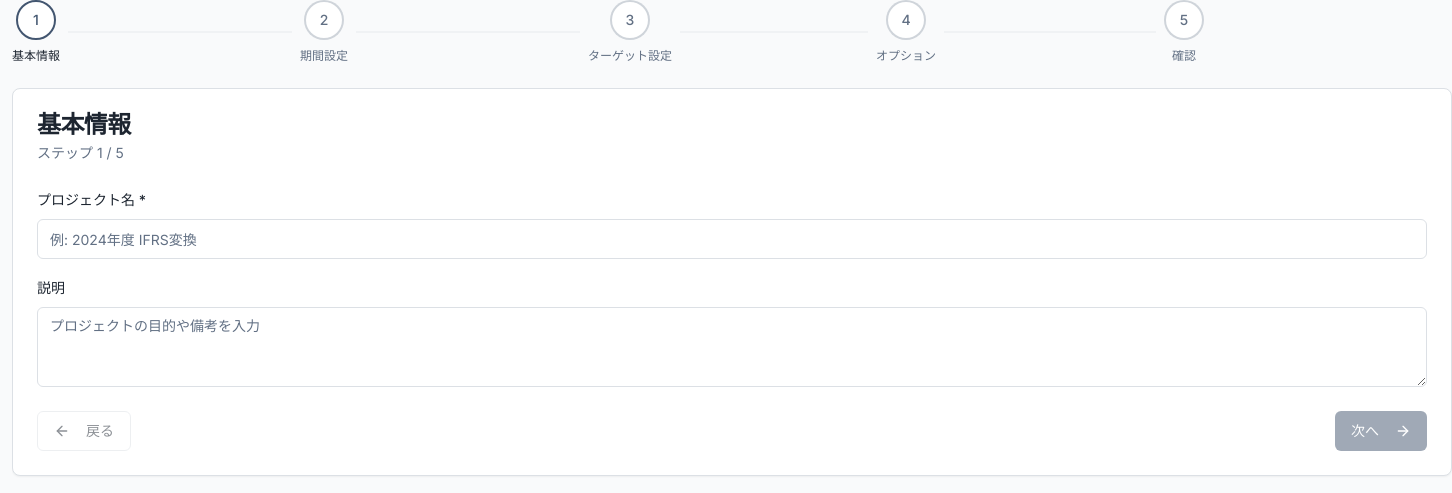
Test: ProjectWizard — step 1 validation gate (period) › disables Next and shows the ordering error when start >= end
The width and height of the screenshot is (1452, 493).
Type "p" into the field with placeholder "例: 2024年度 IFRS変換" at (732, 239), box x1=37 y1=219 x2=1427 y2=259
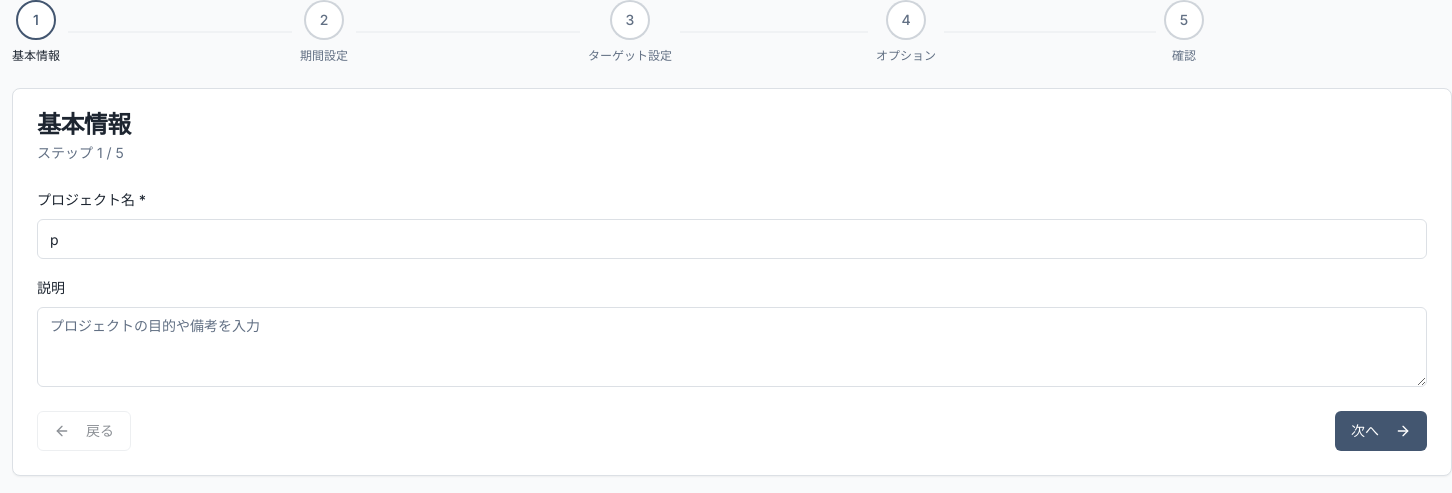
Click the button "次へ" at (1381, 431), box x1=1335 y1=411 x2=1427 y2=451
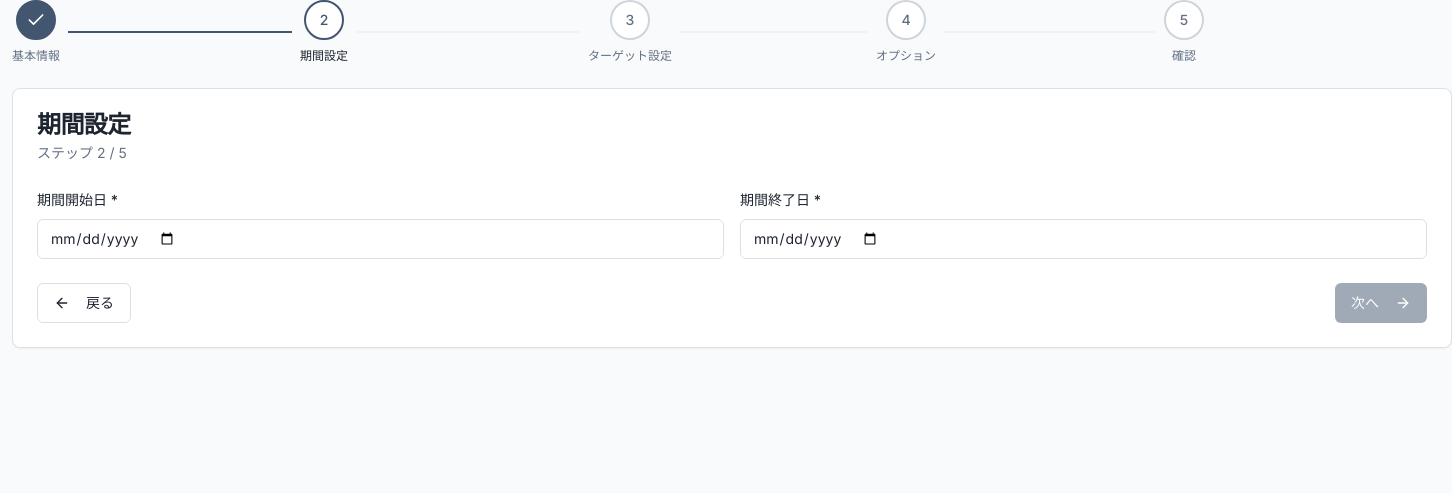
Type "2024-12-31" into the date field labelled "期間開始日 *" at (380, 239), box x1=37 y1=219 x2=724 y2=259
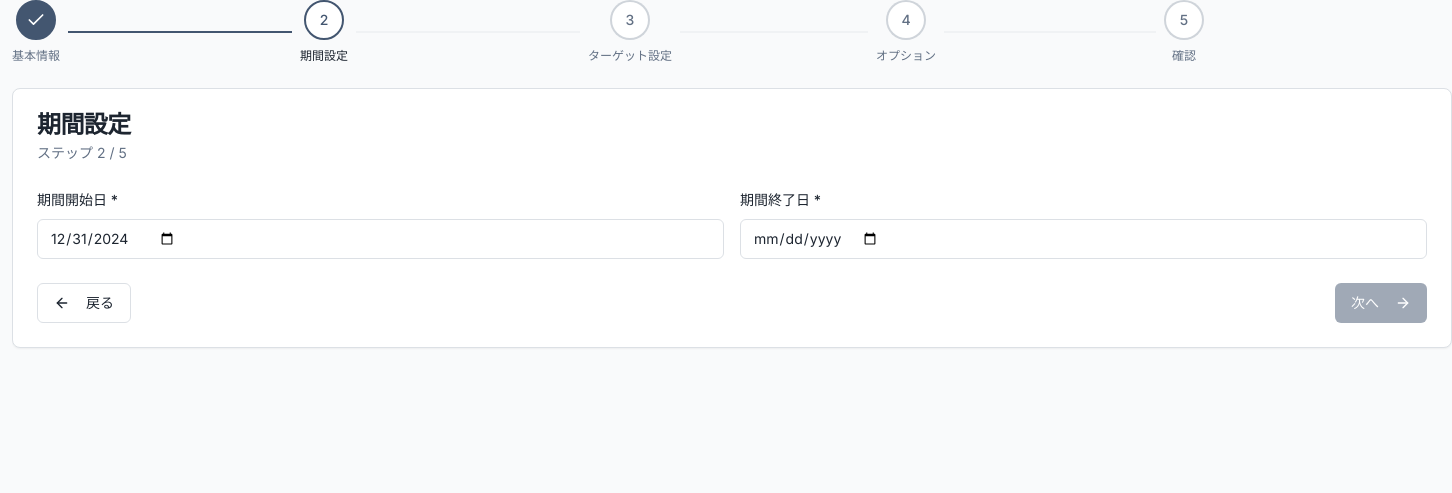
Type "2024-01-01" into the date field labelled "期間終了日 *" at (1084, 239), box x1=740 y1=219 x2=1427 y2=259
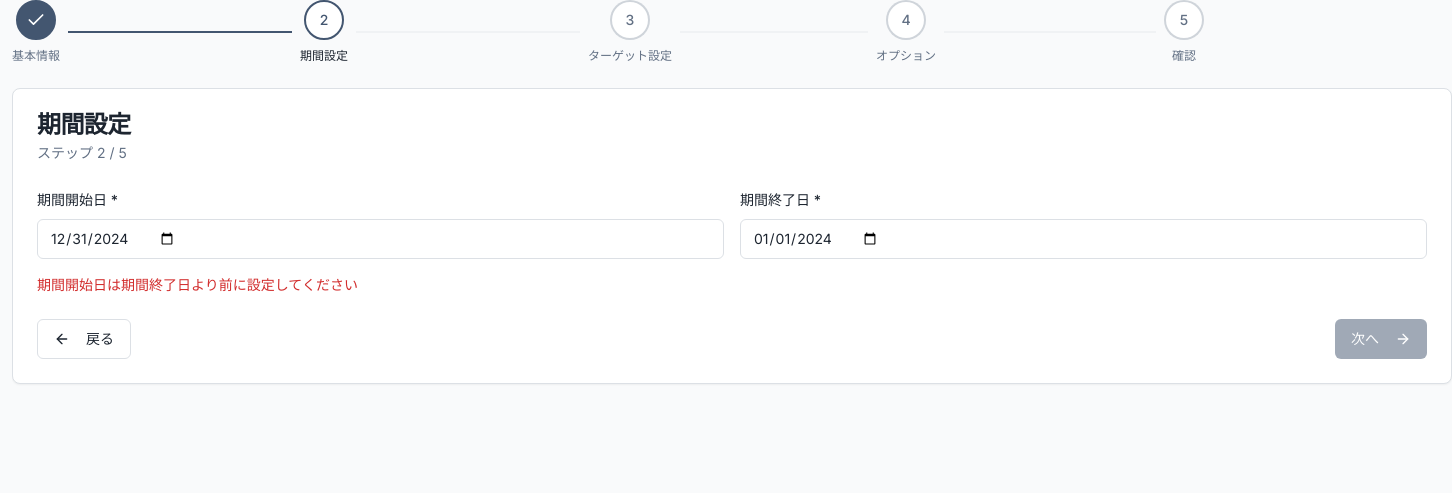
Check: the button "次へ" is disabled, box x1=1335 y1=319 x2=1427 y2=359
Check: the text "期間開始日は期間終了日より前に設定してください" is shown, box x1=37 y1=276 x2=358 y2=293
